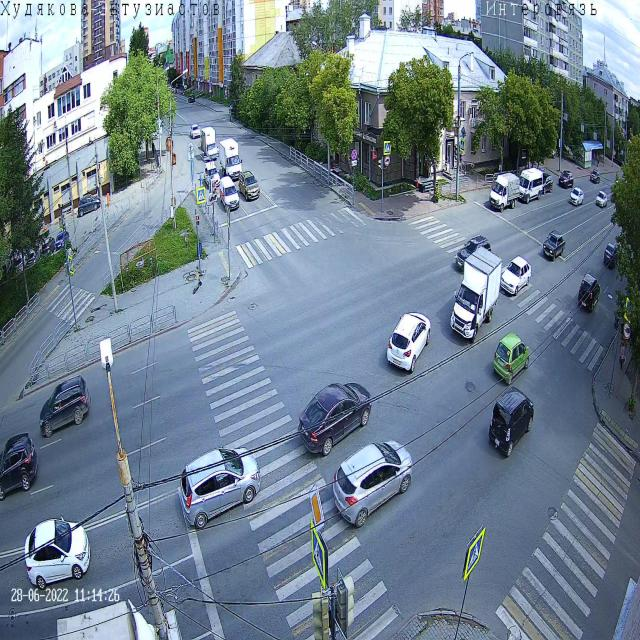car: (332, 439, 414, 530), (179, 443, 262, 531), (296, 380, 372, 458), (24, 514, 91, 590), (38, 375, 92, 439), (488, 386, 534, 460), (386, 311, 432, 375), (0, 431, 39, 505), (492, 330, 532, 387), (455, 234, 492, 274), (500, 255, 532, 297), (576, 270, 601, 314), (542, 229, 566, 264), (219, 176, 240, 213), (238, 169, 260, 202), (603, 240, 623, 270), (203, 160, 221, 190), (536, 171, 554, 195), (558, 169, 574, 190), (569, 186, 584, 207), (595, 190, 608, 208), (189, 123, 201, 139), (590, 168, 600, 186), (151, 124, 161, 141), (188, 92, 195, 104)
pedestrian: (618, 332, 626, 371), (228, 105, 232, 124), (596, 153, 600, 168)
shuttle_taxi: (515, 167, 544, 206)
truck: (449, 245, 503, 345), (54, 597, 175, 640), (488, 170, 520, 214), (218, 138, 243, 182), (200, 126, 218, 160)
